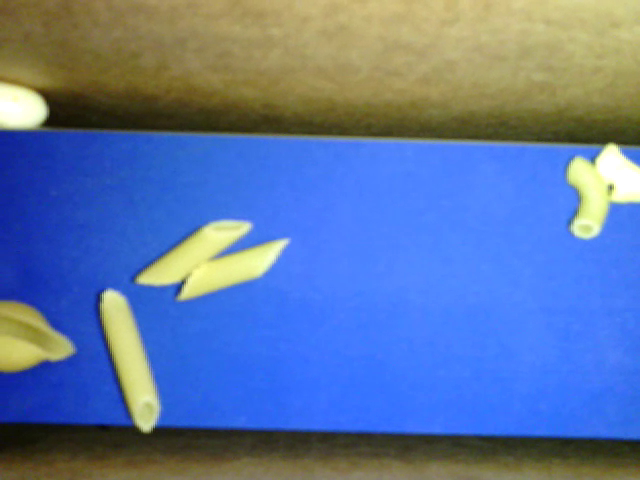elbow: (565, 156, 610, 240)
penne: (97, 286, 160, 431), (135, 218, 254, 287), (176, 238, 291, 300)
shell: (1, 300, 77, 374)
